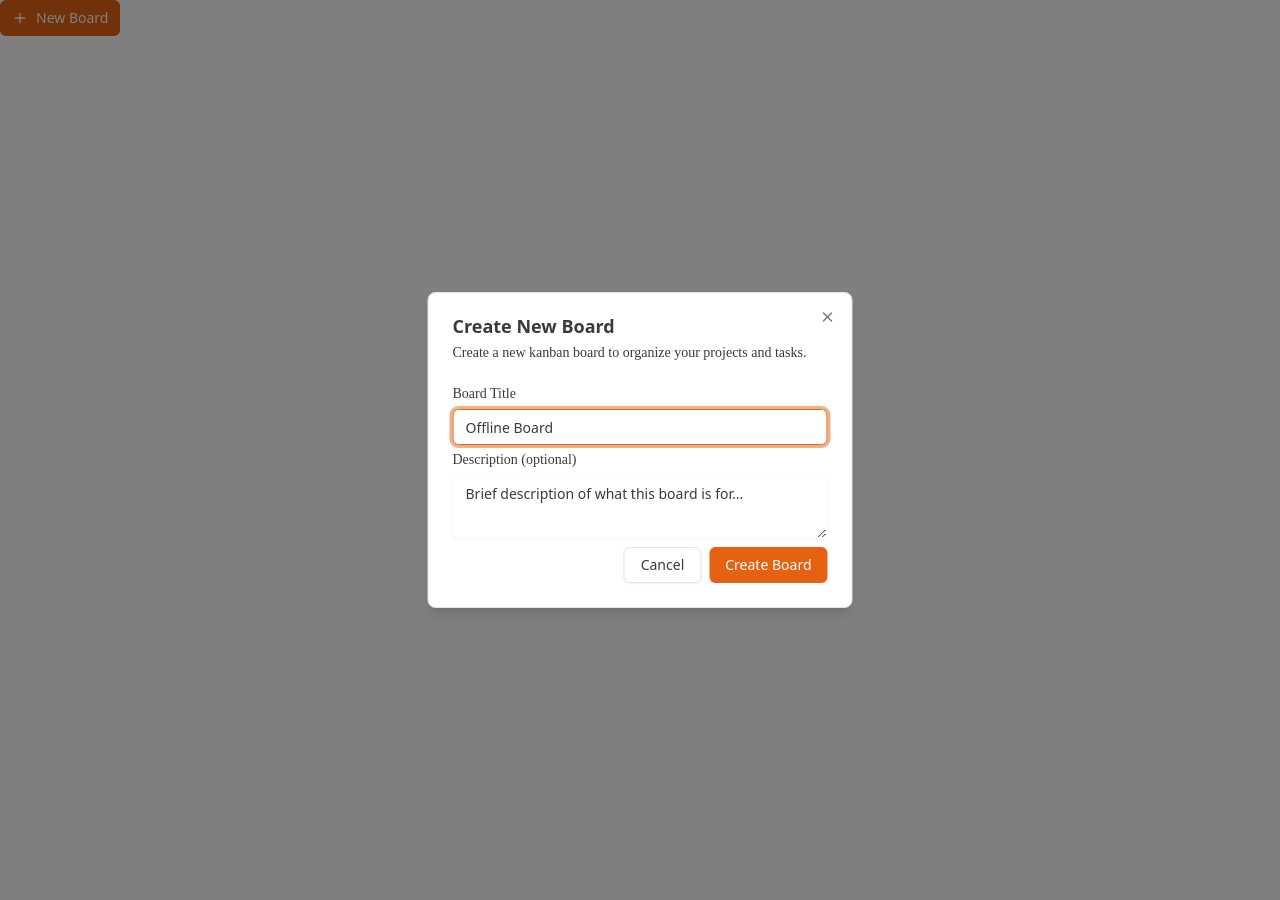
Scenario: Error-handling and edge-case tests (v0-driftboard-6o2) › Service errors surface in UI without losing user input and clear on retry/close › CreateBoardDialog surfaces permission-denied/unavailable/generic errors, preserves input, clears error on cancel+reopen, and succeeds on retry
Earlier steps of the test are not shown.
Type "Preserved description" into the text box labelled "Description (optional)" at (640, 507), box [452, 475, 828, 539]
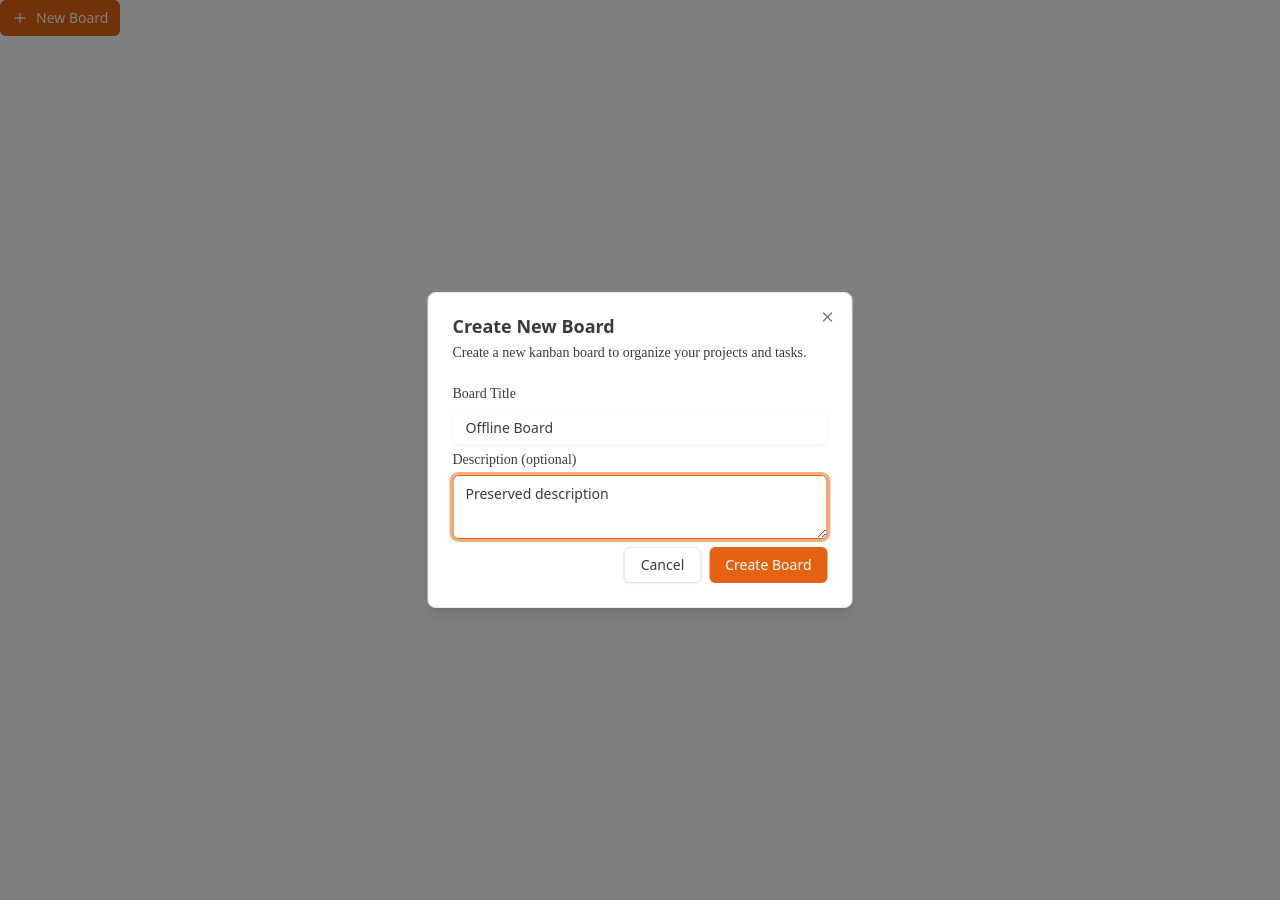
Click the button "Create Board" at (768, 565), box [709, 547, 828, 583]
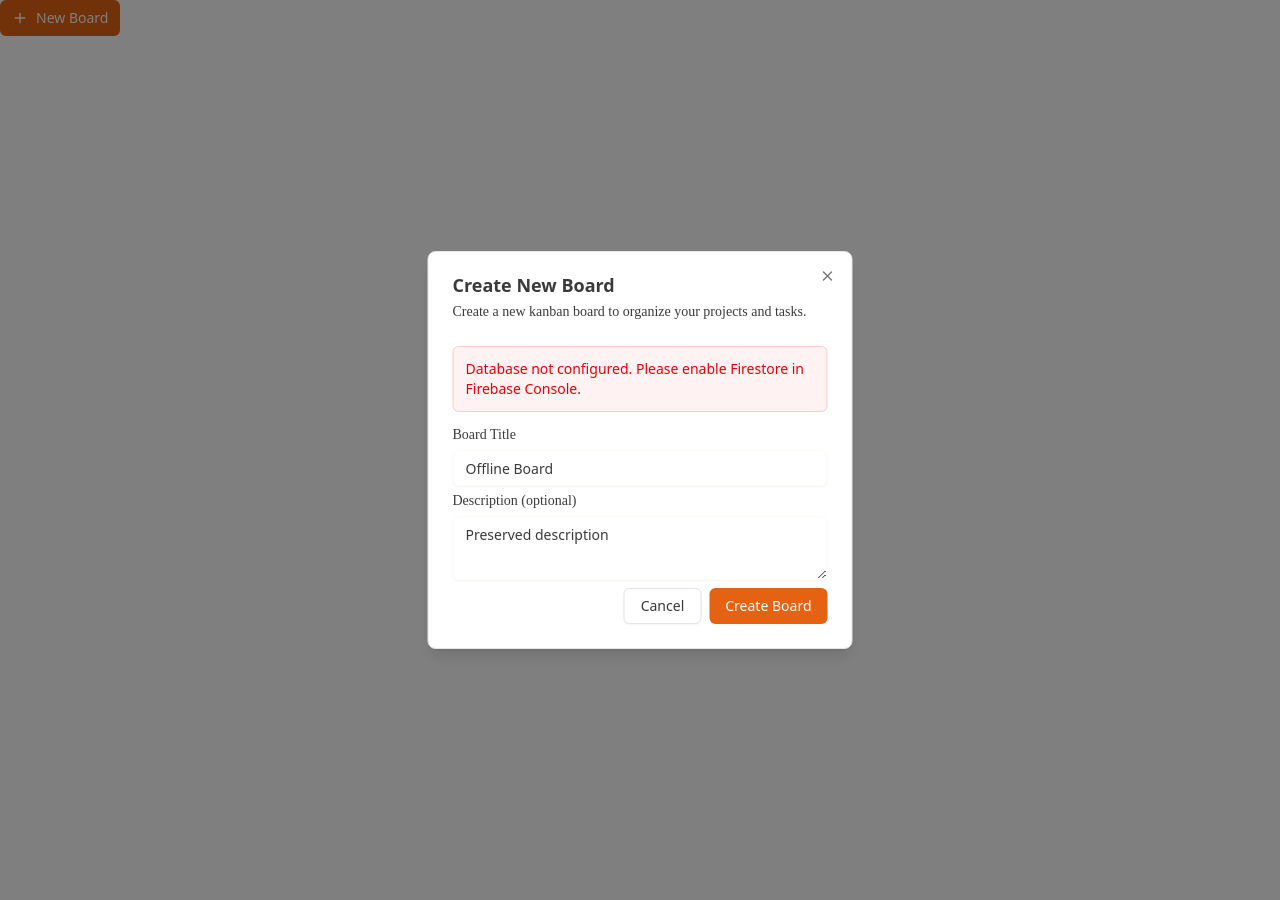
Check: the message shows "Database not configured", box [466, 359, 804, 398]
Note: Cancel and reopen: stale error banner must be cleared
Click the button "Cancel" at (662, 606), box [624, 588, 701, 624]
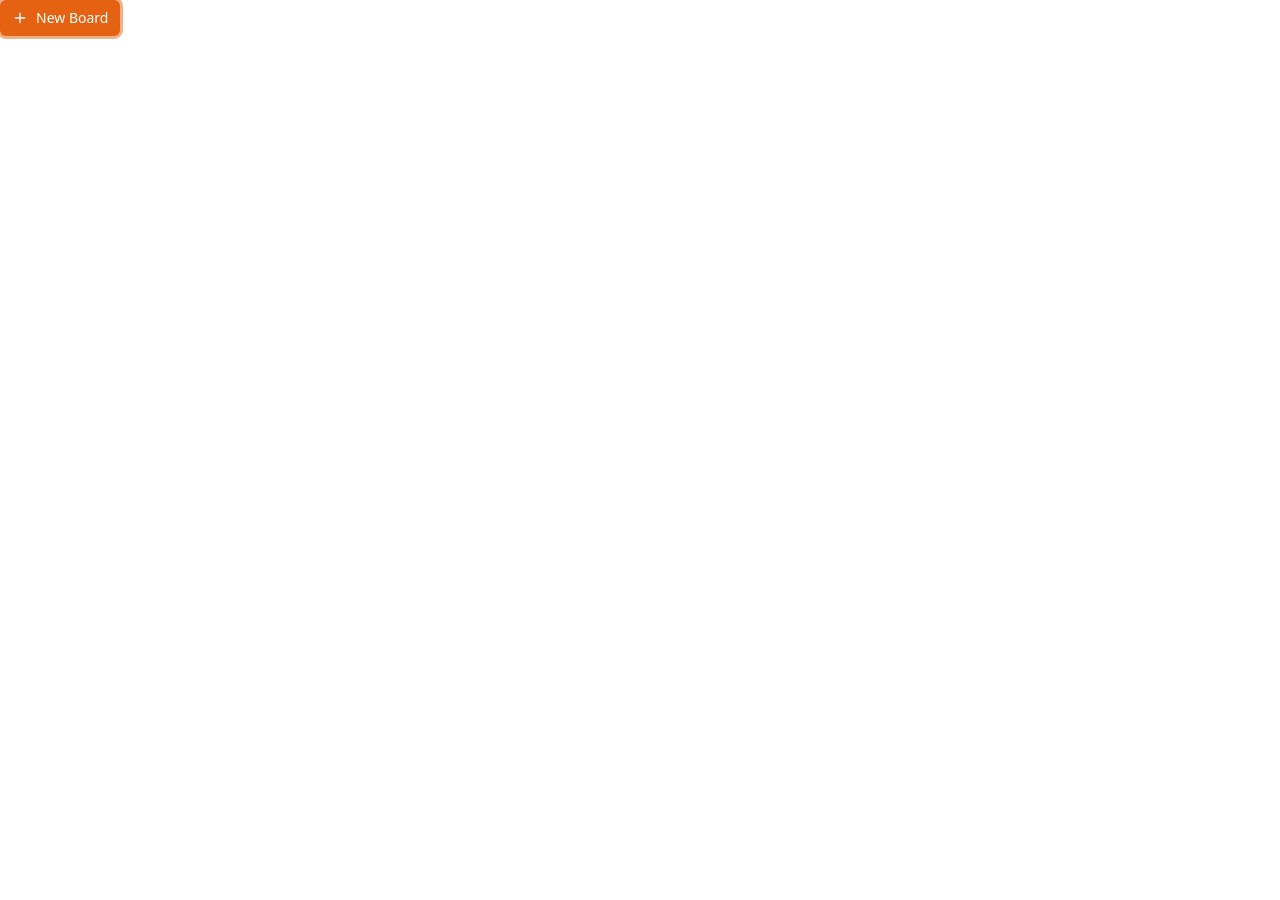
Click the button "New Board" at (60, 18), box [0, 0, 120, 36]
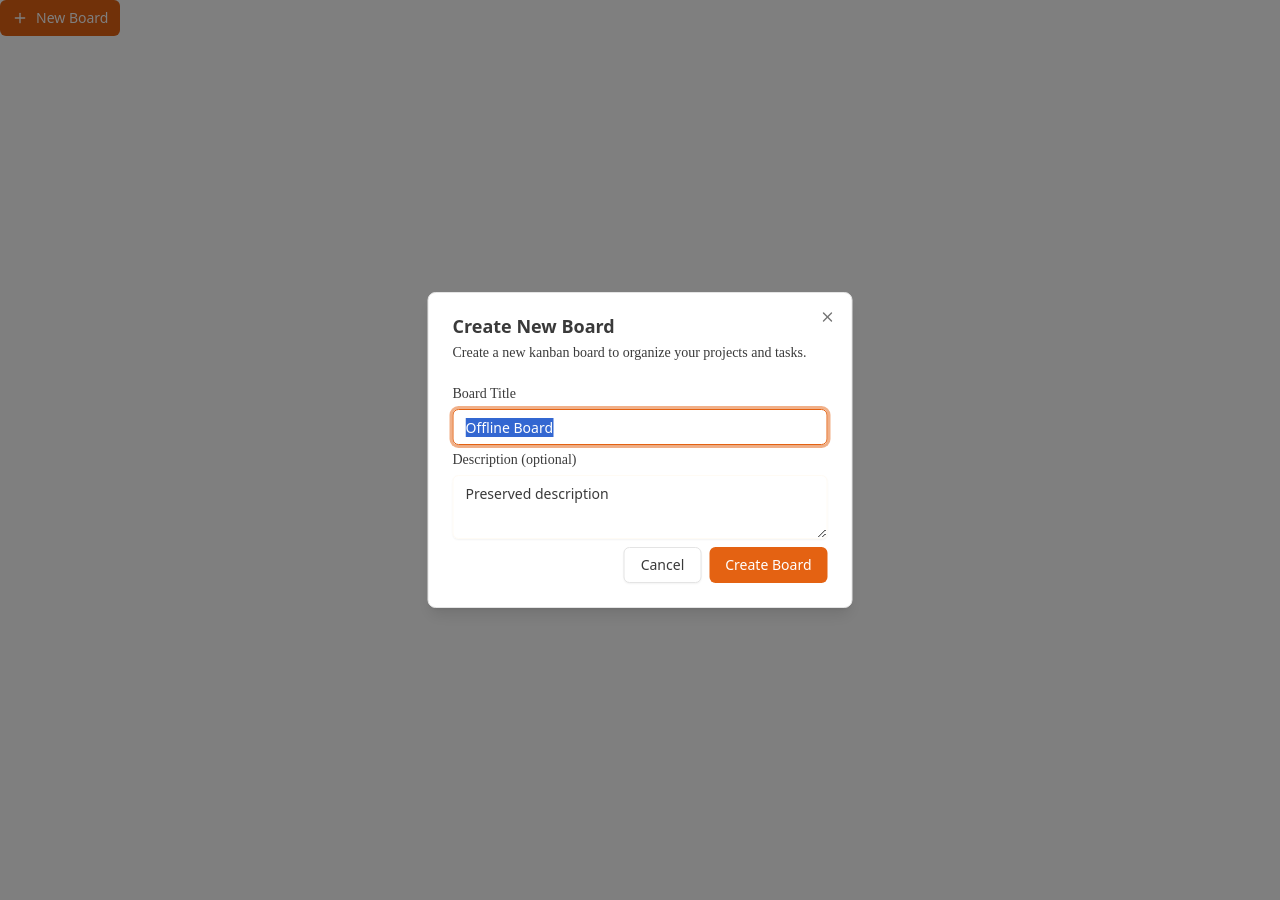
Check: the message "Database not configured. Please enable Firestore in Firebase Console." is not shown
Click the button "Create Board" at (768, 565), box [709, 547, 828, 583]
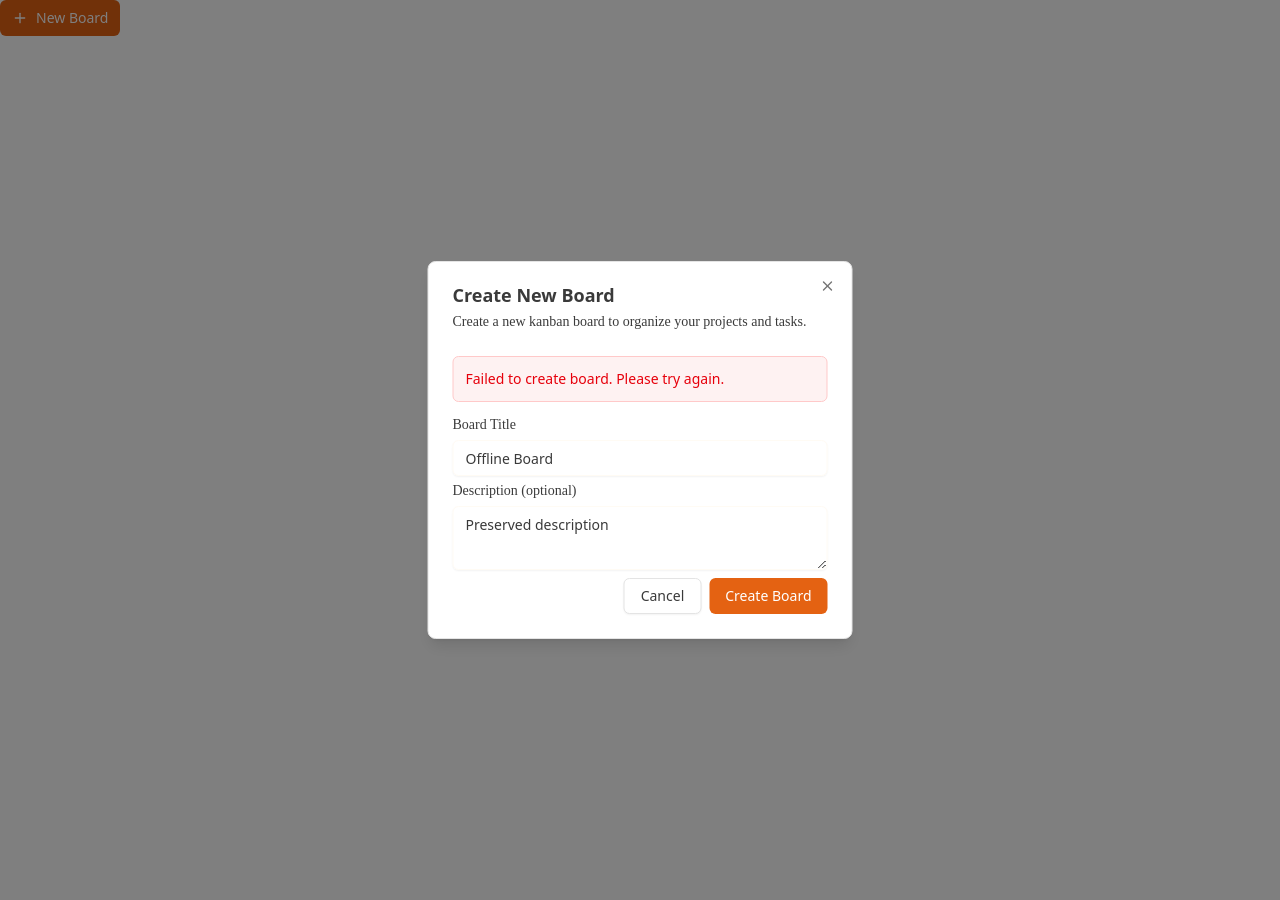
Check: the message shows "Failed to create board", box [466, 369, 724, 388]
Click the button "Create Board" at (768, 596), box [709, 578, 828, 614]
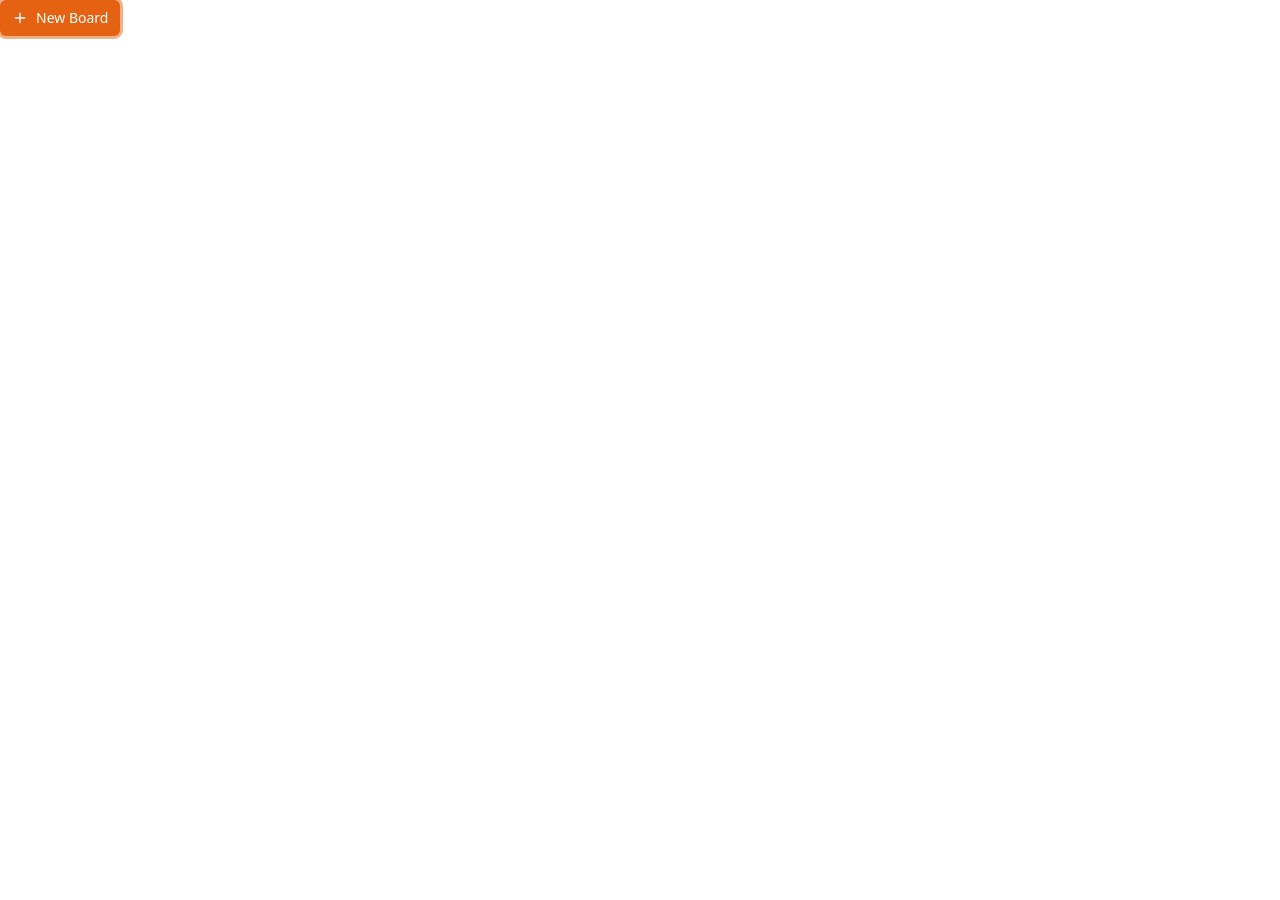
Check: the dialog is gone
